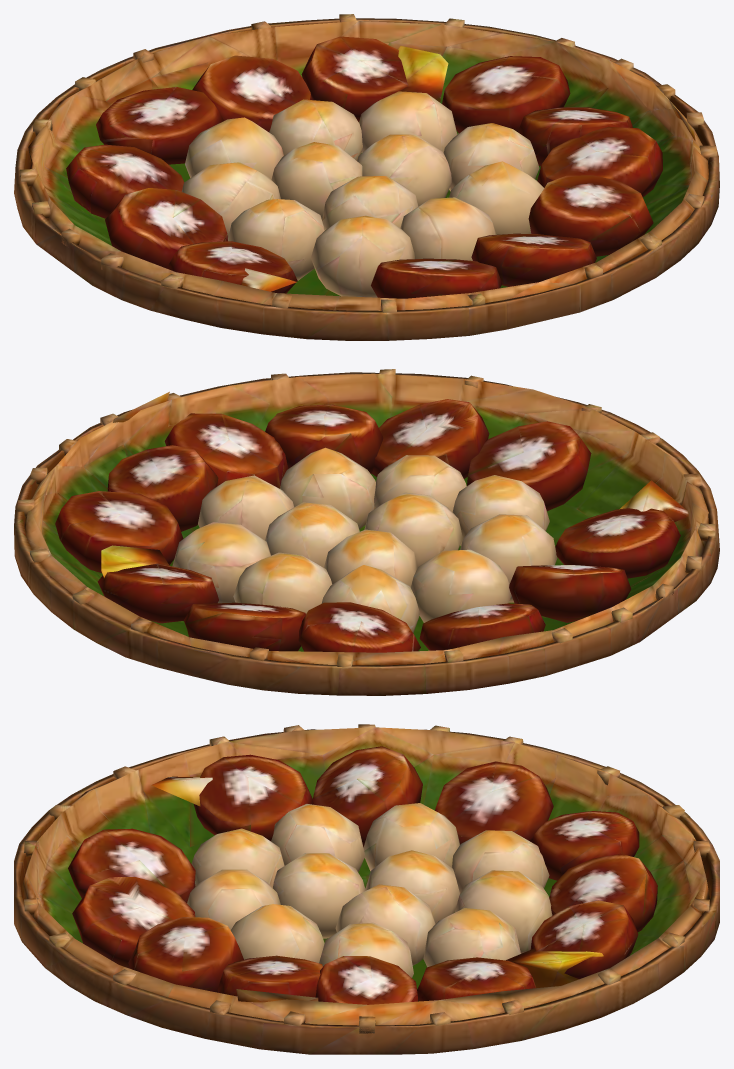
Rendered from puto-kutsinta.glb.
3 renders of one model, top to bottom at view 1: azimuth 30°, elevation 25°; view 2: azimuth 150°, elevation 25°; view 3: azimuth 270°, elevation 25°, orthographic.
Parts seen in each view (by area): view 1: geometry_0; view 2: geometry_0; view 3: geometry_0.
Part boxes in pixels (x1,y1,x2,y2): geometry_0: (14, 14, 719, 340); geometry_0: (14, 369, 719, 695); geometry_0: (14, 724, 719, 1054).
Bounding box in the file's own units: 1 × 0.165 × 1.
Materials: 1 (1 with a texture image).
